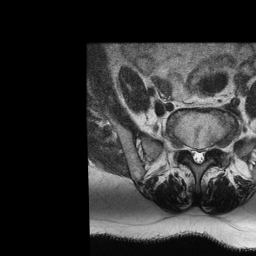CCS_stenosis: (195, 143, 200, 169)
LFS_stenosis: (206, 140, 212, 157)
LLS_normal: (200, 143, 206, 166)
RFS_stenosis: (185, 139, 190, 156)
RLS_normal: (190, 143, 195, 165)
